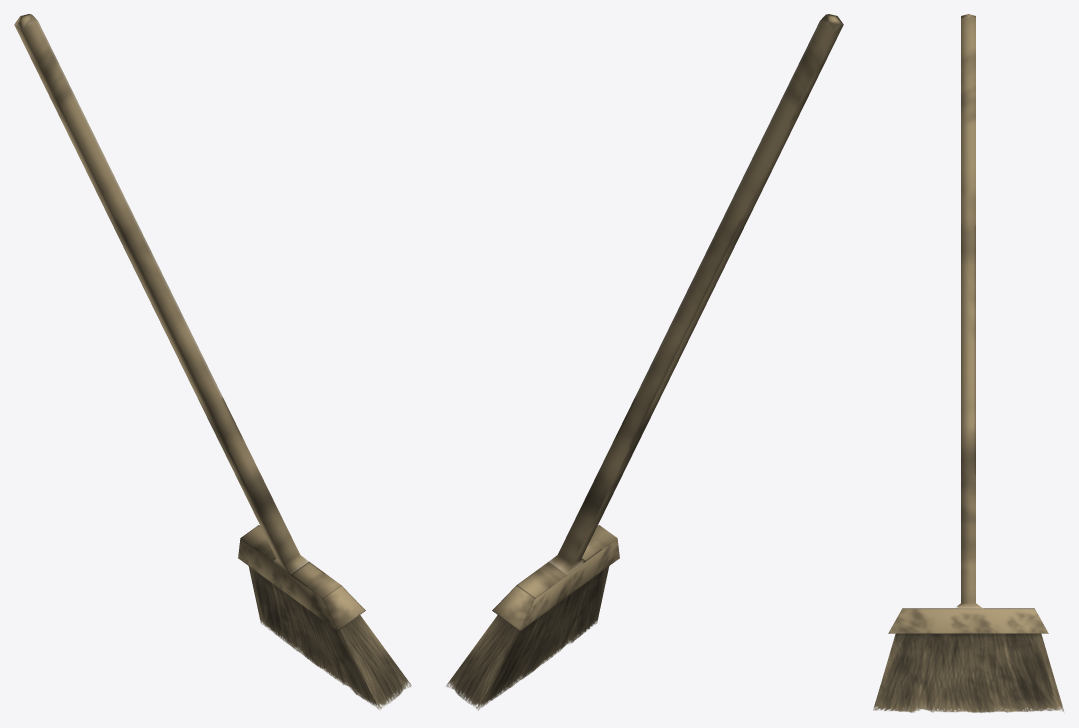
Rendered from broom.glb.
3 views of the same model, side by side, from view 1: azimuth 30°, elevation 25°; view 2: azimuth 150°, elevation 25°; view 3: azimuth 270°, elevation 25° (orthographic). The views are drawn at different scales.
Visible parts, largest first — view 1: Object_2; view 2: Object_2; view 3: Object_2.
Boxes of the visible parts, x1,y1,x2,y2 form: Object_2: (14, 14, 411, 710); Object_2: (446, 14, 843, 710); Object_2: (873, 14, 1063, 712).
Bounding box in the file's own units: 70.4 × 145 × 43.31.
1 material, 1 textured.
